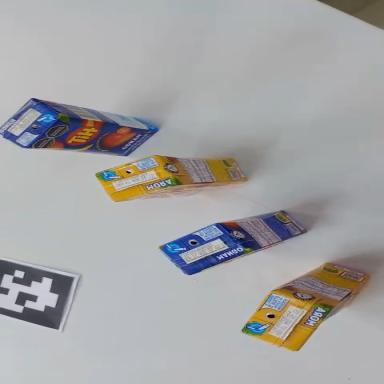HIT-MANGO: (159, 195, 308, 282), (0, 92, 159, 173)
HIT-MORA: (235, 235, 374, 369), (94, 141, 248, 205)
cara_F: (26, 111, 158, 168)
